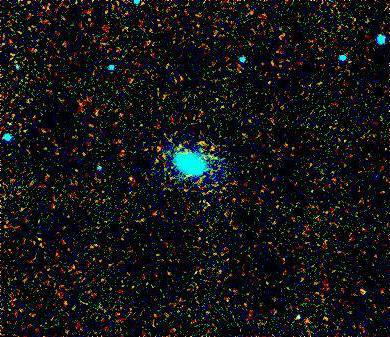star: (352, 280, 382, 310)
